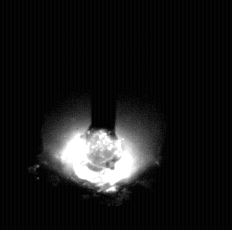arame: (92, 0, 119, 140)
poca: (43, 0, 161, 230)
